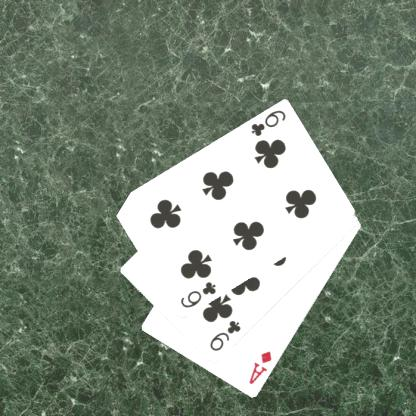6C: (177, 279, 218, 310), (248, 108, 287, 138)
9C: (206, 318, 242, 353)
AD: (245, 349, 274, 386)
